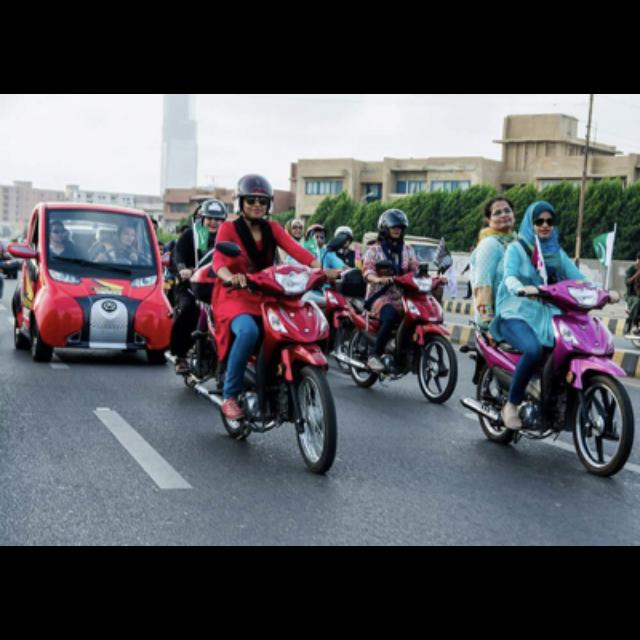With Helmet: (230, 167, 284, 225), (370, 201, 414, 247)
Without Helmet: (520, 193, 562, 244)
